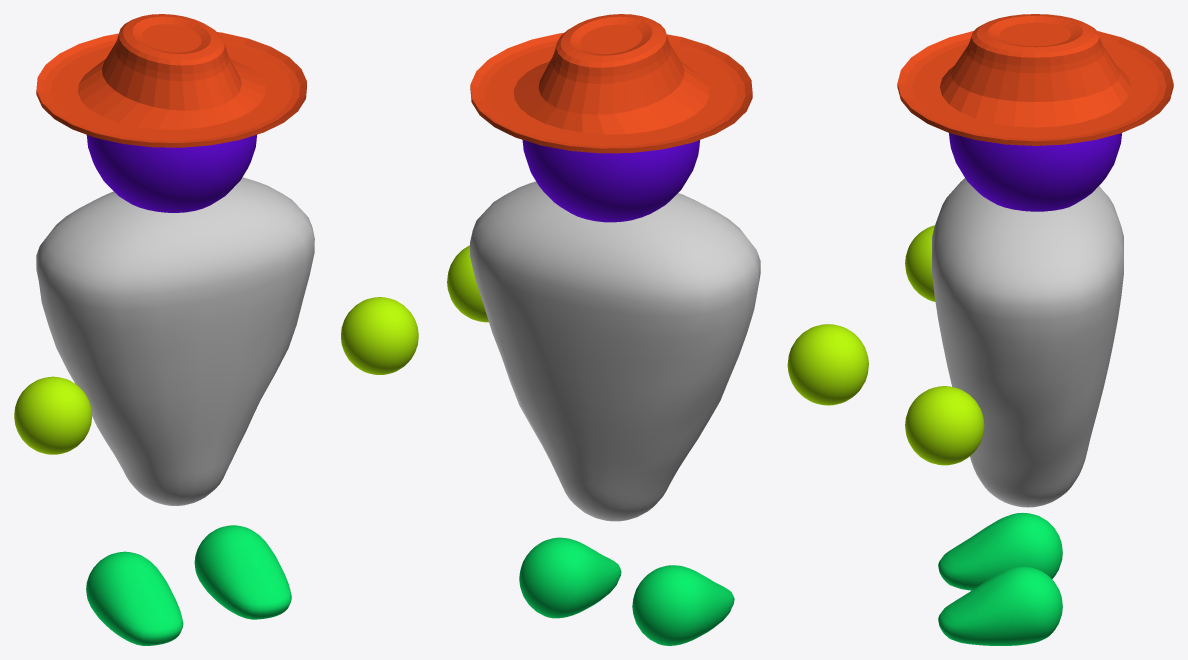
File: Pueblerino.fbx
The picture shows the model from 3 angles, left to right: view 1: azimuth 30°, elevation 25°; view 2: azimuth 150°, elevation 25°; view 3: azimuth 270°, elevation 25°; orthographic projection. The views are drawn at different scales.
Parts seen in each view (by area): view 1: Cuerpo_campesino, Sombrero_campesino, Cabeza_campesino, Pie_derecho001, Pie_izquierdo001, Mano_derecha001, Mano_izquierda001; view 2: Cuerpo_campesino, Sombrero_campesino, Cabeza_campesino, Pie_izquierdo001, Pie_derecho001, Mano_derecha001, Mano_izquierda001; view 3: Cuerpo_campesino, Sombrero_campesino, Cabeza_campesino, Pie_izquierdo001, Pie_derecho001, Mano_izquierda001, Mano_derecha001.
Boxes of the visible parts, x1=… form: Cuerpo_campesino: x1=36, y1=177, x2=314, y2=505; Sombrero_campesino: x1=36, y1=14, x2=306, y2=147; Cabeza_campesino: x1=86, y1=134, x2=256, y2=212; Pie_derecho001: x1=86, y1=551, x2=183, y2=645; Pie_izquierdo001: x1=194, y1=525, x2=291, y2=619; Mano_derecha001: x1=14, y1=376, x2=91, y2=454; Mano_izquierda001: x1=341, y1=297, x2=418, y2=374; Cuerpo_campesino: x1=470, y1=181, x2=760, y2=521; Sombrero_campesino: x1=470, y1=14, x2=752, y2=153; Cabeza_campesino: x1=522, y1=140, x2=699, y2=222; Pie_izquierdo001: x1=519, y1=537, x2=621, y2=618; Pie_derecho001: x1=632, y1=565, x2=734, y2=645; Mano_derecha001: x1=787, y1=324, x2=868, y2=405; Mano_izquierda001: x1=447, y1=245, x2=488, y2=322; Cuerpo_campesino: x1=932, y1=178, x2=1123, y2=507; Sombrero_campesino: x1=897, y1=14, x2=1173, y2=145; Cabeza_campesino: x1=949, y1=133, x2=1121, y2=211; Pie_izquierdo001: x1=938, y1=566, x2=1062, y2=645; Pie_derecho001: x1=938, y1=512, x2=1062, y2=590; Mano_izquierda001: x1=905, y1=386, x2=984, y2=465; Mano_derecha001: x1=905, y1=225, x2=935, y2=301.
Size of the model in its own units: 22 by 30.58 by 13.12.
